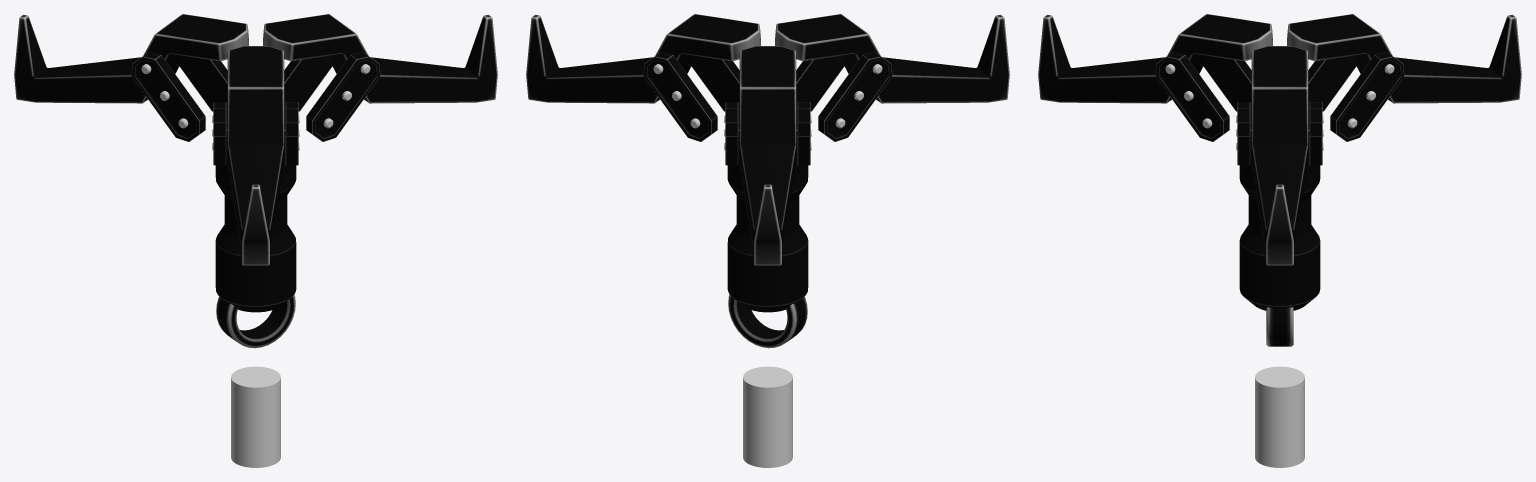
File: GH_3_materialTest.fbx
3 renders of one model, left to right at view 1: azimuth 30°, elevation 25°; view 2: azimuth 150°, elevation 25°; view 3: azimuth 270°, elevation 25°, orthographic.
Visible parts, largest first — view 1: Cube.006, Cube.009, Cube.003, Cylinder.003, Cube.010, Cube.004, Cylinder.008, Cylinder.007, Cube.007; view 2: Cube.009, Cube.003, Cube.006, Cylinder.003, Cube.004, Cube.007, Cylinder.008, Cylinder.007, Cube.010; view 3: Cube.003, Cube.006, Cube.009, Cylinder.003, Cube.007, Cube.010, Cylinder.008, Cube.004, Cylinder.007.
Boxes of the visible parts, x1,y1,x2,y2 form: Cube.006: (227, 46, 284, 265); Cube.009: (14, 14, 248, 103); Cube.003: (263, 14, 497, 103); Cylinder.003: (215, 105, 296, 312); Cube.010: (131, 52, 227, 141); Cube.004: (284, 52, 380, 141); Cylinder.008: (231, 366, 280, 467); Cylinder.007: (216, 294, 295, 348); Cube.007: (213, 102, 298, 165); Cube.009: (739, 46, 796, 265); Cube.003: (526, 14, 760, 103); Cube.006: (775, 14, 1009, 103); Cylinder.003: (727, 105, 808, 312); Cube.004: (643, 52, 739, 141); Cube.007: (796, 52, 892, 141); Cylinder.008: (743, 366, 792, 467); Cylinder.007: (728, 294, 807, 348); Cube.010: (725, 102, 810, 165); Cube.003: (1251, 46, 1308, 265); Cube.006: (1038, 14, 1272, 103); Cube.009: (1287, 14, 1521, 103); Cylinder.003: (1239, 105, 1320, 310); Cube.007: (1155, 52, 1251, 141); Cube.010: (1308, 52, 1404, 141); Cylinder.008: (1255, 366, 1304, 467); Cube.004: (1237, 102, 1322, 165); Cylinder.007: (1266, 307, 1293, 346).
Size of the model in its own units: 227 by 251 by 262.
2 materials, 1 textured.
